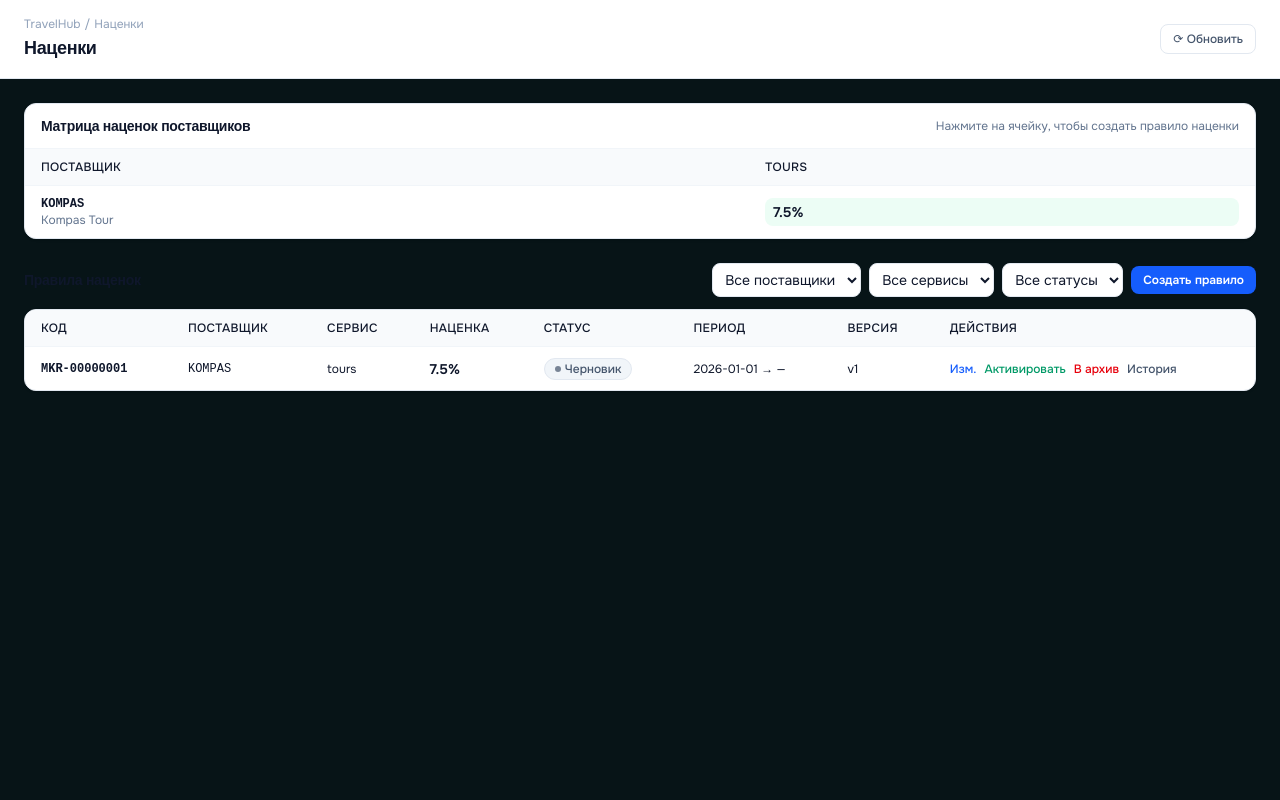
Test: MarkupAdminPage — Supplier × Service matrix + rules (§4.1/§4.2) › клик по ячейке (manage) открывает create-form с prefill поставщик+сервис
Click the button titled "MKR-00000001 v1" at (788, 212), box x1=765 y1=198 x2=1239 y2=226
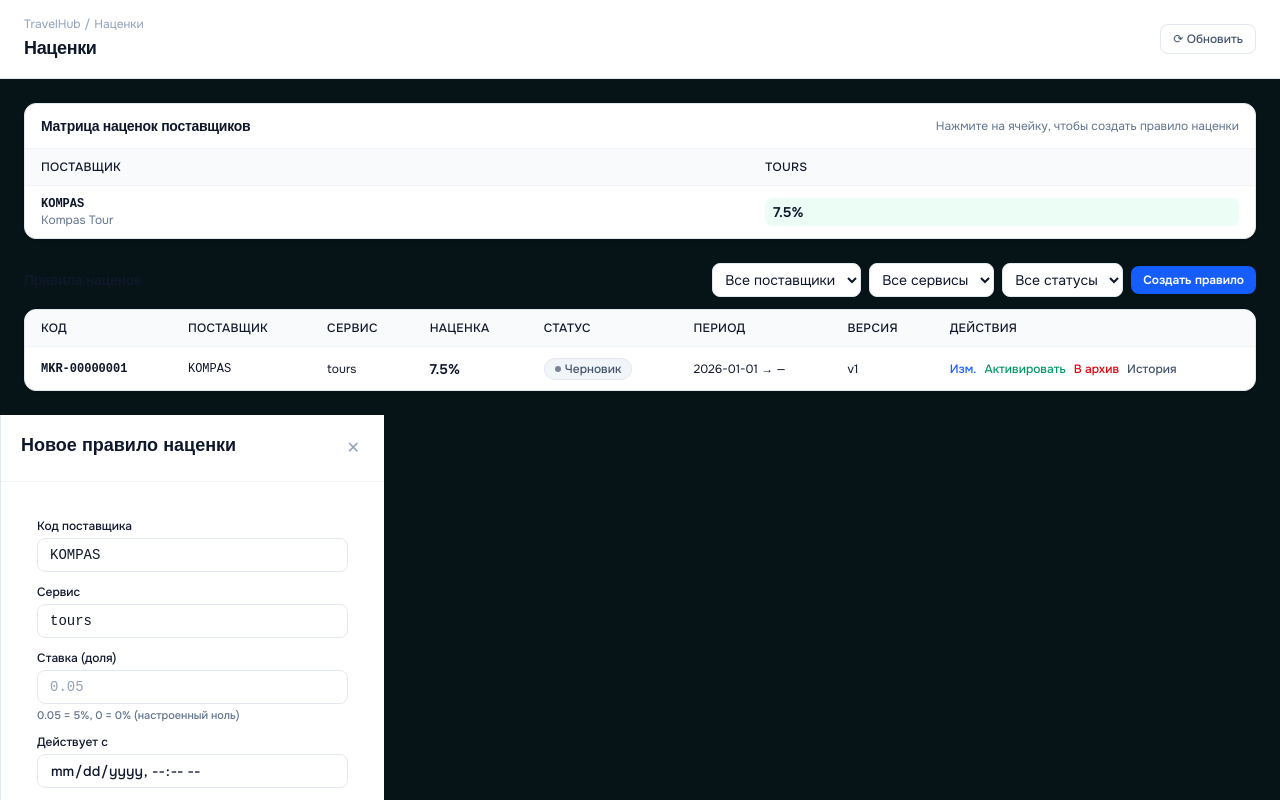
Result: the field labelled "Код поставщика" holds "KOMPAS" at x1=37 y1=538 x2=348 y2=572
Result: the field labelled "Сервис" holds "tours" at x1=37 y1=604 x2=348 y2=638
Result: the text "Новое правило наценки" is shown at x1=21 y1=431 x2=236 y2=459
